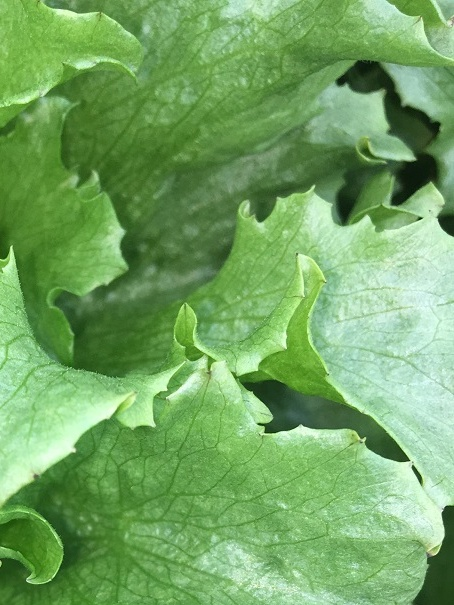tipburn: (346, 425, 369, 448), (421, 539, 442, 561), (121, 387, 141, 404), (25, 467, 43, 485), (358, 130, 375, 148), (401, 453, 418, 470), (159, 390, 175, 407), (200, 366, 218, 381), (291, 248, 308, 263), (318, 272, 331, 289), (443, 12, 454, 32), (435, 502, 450, 516)
